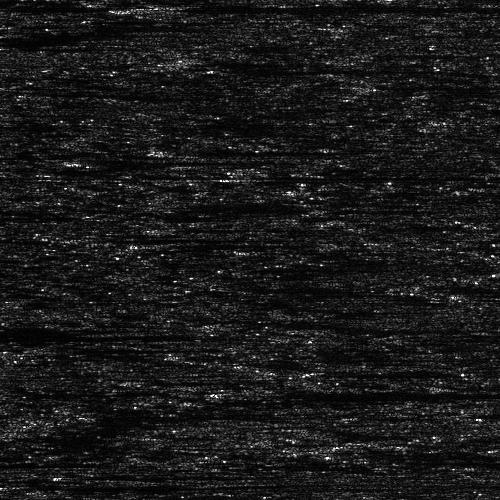object: (182, 171, 327, 184), (177, 391, 322, 400), (158, 55, 211, 68), (95, 377, 188, 384), (105, 5, 178, 10), (56, 157, 97, 164), (489, 325, 500, 338)
shadow: (255, 171, 448, 184), (185, 55, 375, 68), (0, 329, 219, 340), (250, 391, 500, 400), (142, 5, 500, 10), (76, 157, 260, 164), (142, 377, 268, 384)
